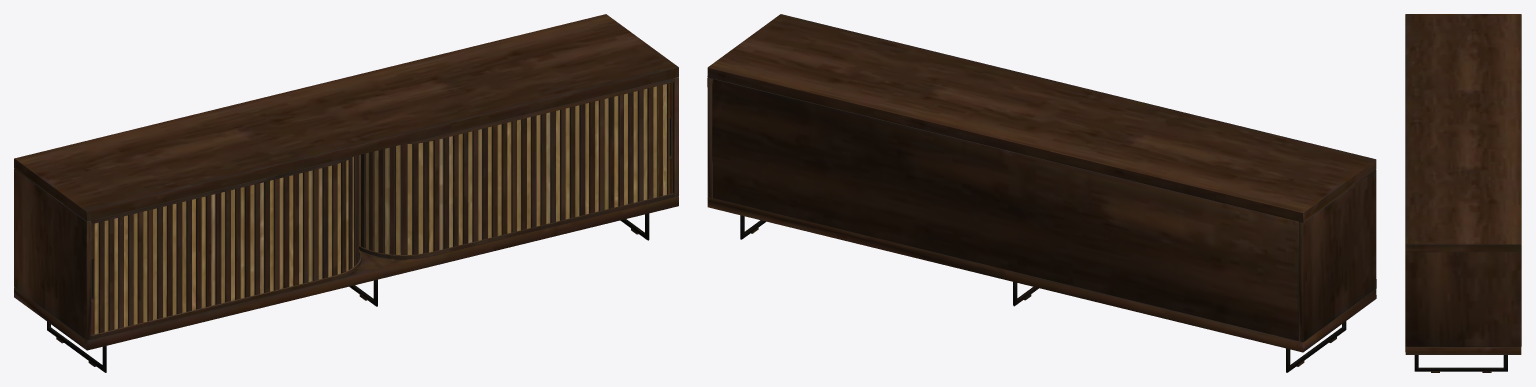
File: modern_wooden_cabinet.glb
3 renders of one model, left to right at view 1: azimuth 30°, elevation 25°; view 2: azimuth 150°, elevation 25°; view 3: azimuth 270°, elevation 25°, orthographic. The views are drawn at different scales.
Visible parts, largest first — view 1: modern_wooden_cabinet_body, modern_wooden_cabinet_door_l; view 2: modern_wooden_cabinet_body; view 3: modern_wooden_cabinet_body.
Boxes of the visible parts, x1,y1,x2,y2 form: modern_wooden_cabinet_body: (14,14,678,372); modern_wooden_cabinet_door_l: (91,82,672,334); modern_wooden_cabinet_body: (707,14,1376,372); modern_wooden_cabinet_body: (1405,14,1521,372).
Size of the model in its own units: 2.44 by 0.6801 by 0.5201.
1 material, 1 textured.
